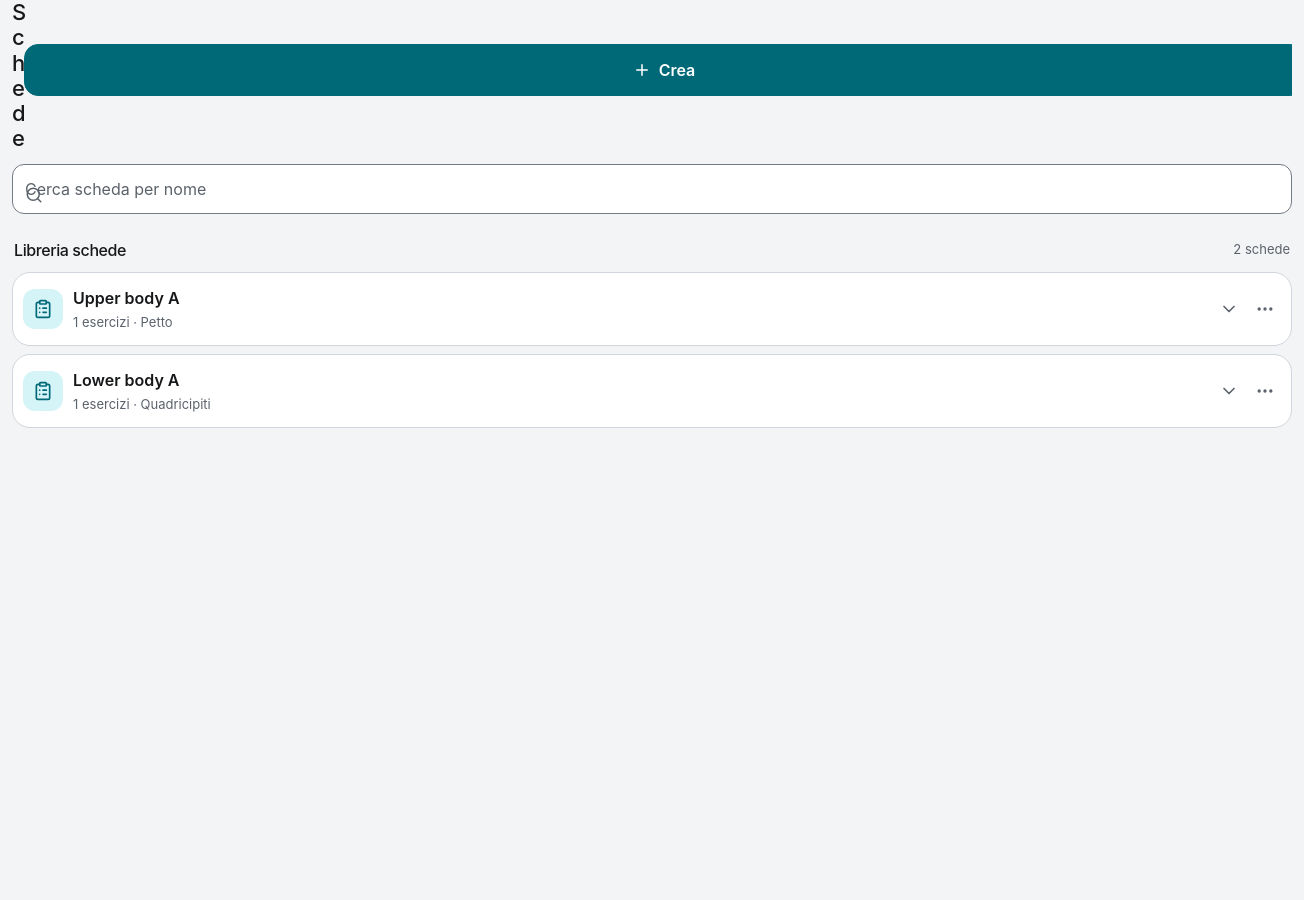
Test case: Schede redesign › keeps the contextual menu separate from expansion and exposes muscles in a collapsed disclosure
Click the 1st button named "Opzioni" at (1265, 309), box [1243,287,1287,331]
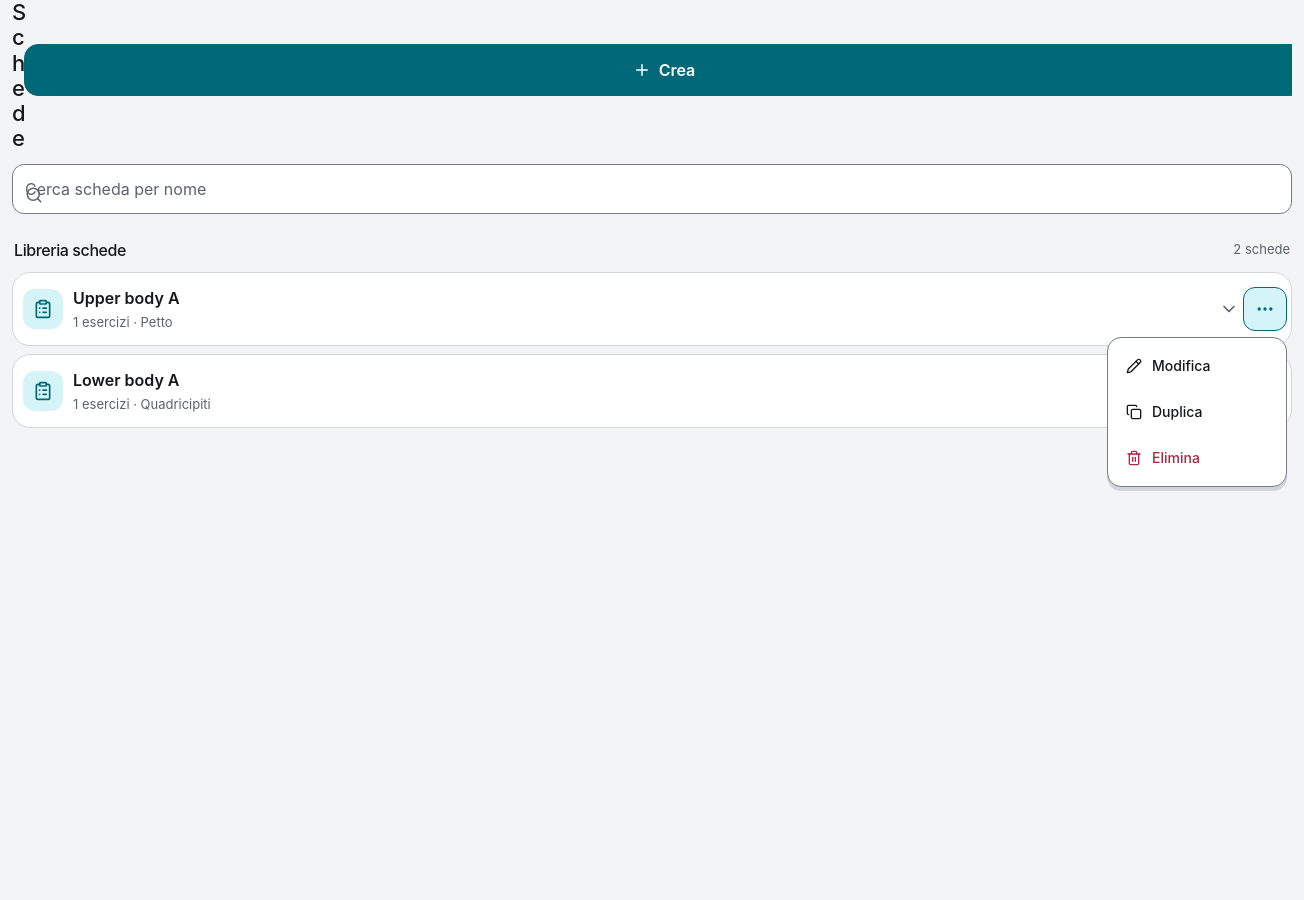
Expected: the menu item "Modifica" is shown, [1114,344,1280,388]
Expected: the menu item "Duplica" is shown, [1114,390,1280,434]
Expected: the menu item "Elimina" is shown, [1114,436,1280,480]
Click the button with aria-label "Apri scheda Upper body A" at (43, 309), box [13,273,1243,345]
(page scrolled)
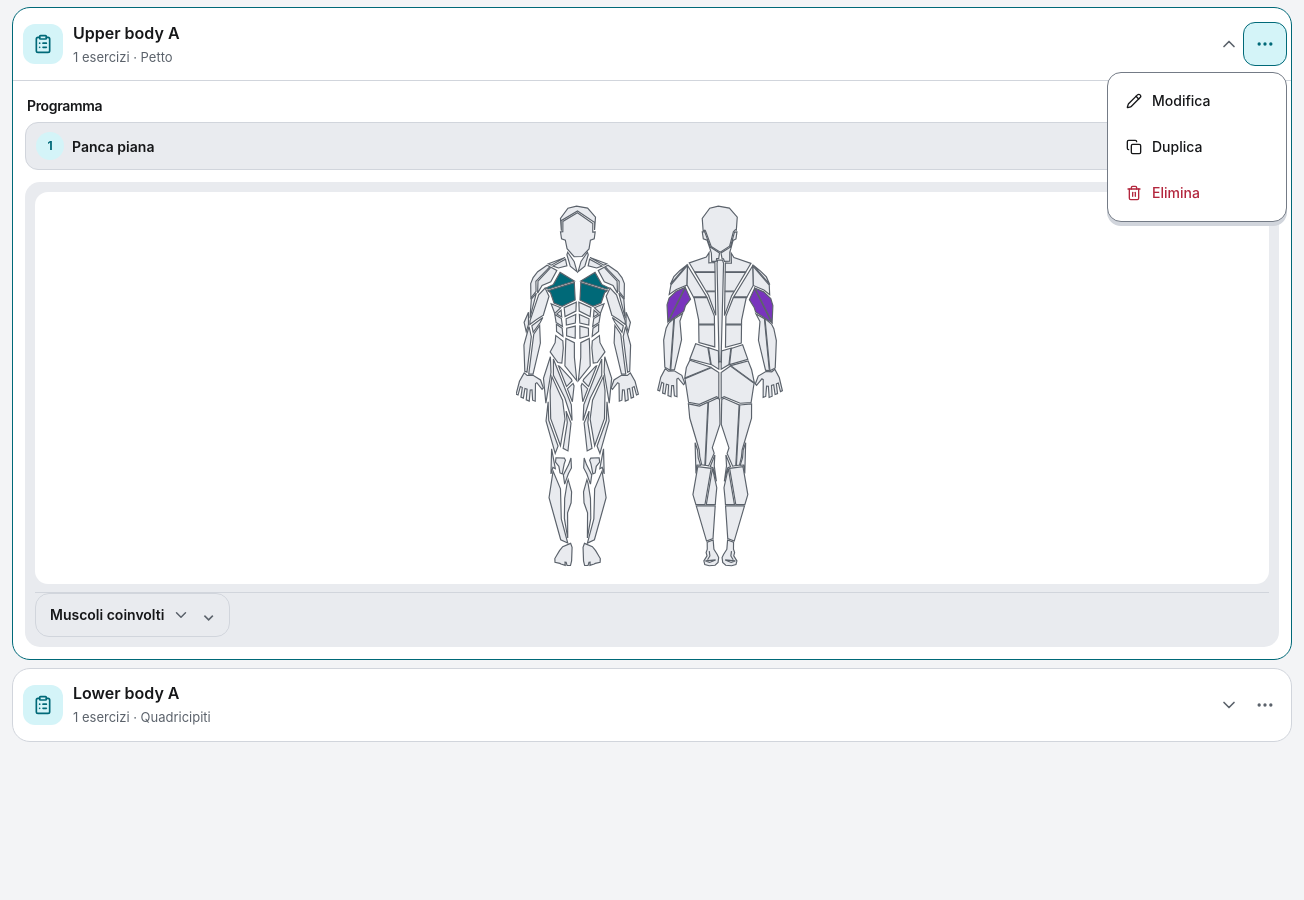
Expected: the element with class "routine-muscle-details" is shown, [35,592,1269,636]
Click the heading "Muscoli coinvolti" at (133, 614), box [35,592,230,636]
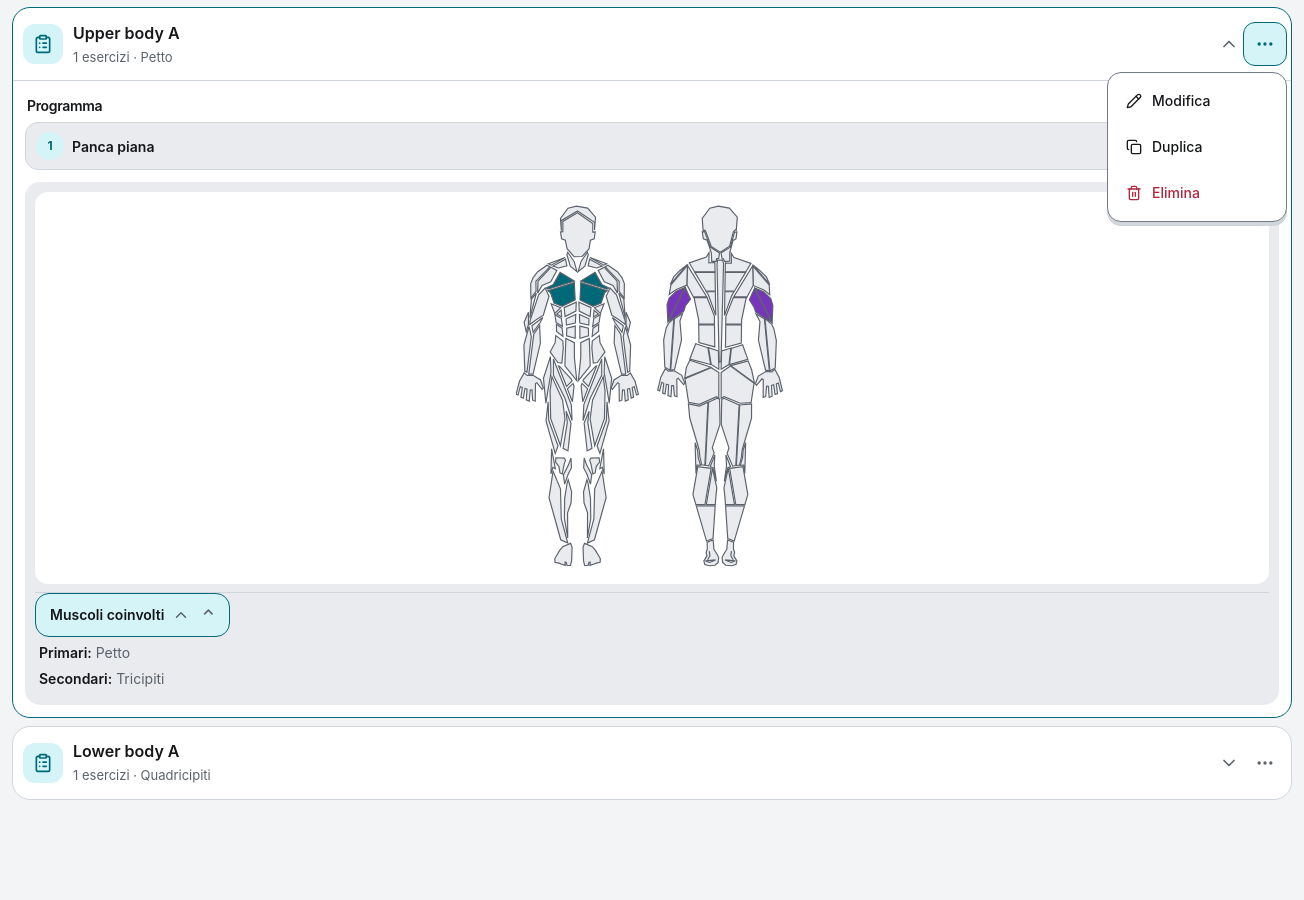
Expected: the element with class "routine-muscle-details" shows "Primari:", [39,644,92,660]
Expected: the element with class "routine-muscle-details" shows "Secondari:", [39,670,112,686]
